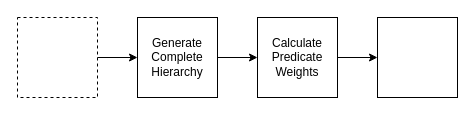
Some shapes in this 475 by 115 pixel diagram are drawn without their labels. The centre of each missing label's shape, as x and y in pixels:
"Convert CLIF to OWL" belongs at (x=57, y=57).
"Run Tests with Prover9" belongs at (x=417, y=57).
